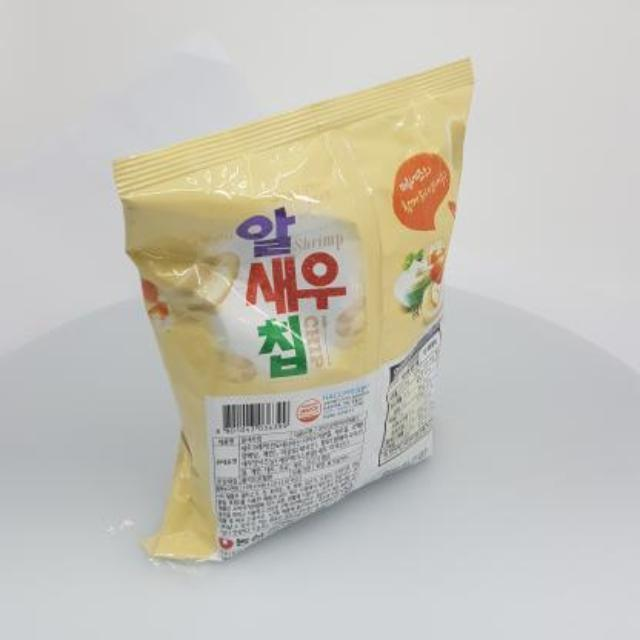snack_bag: (90, 52, 512, 576)
